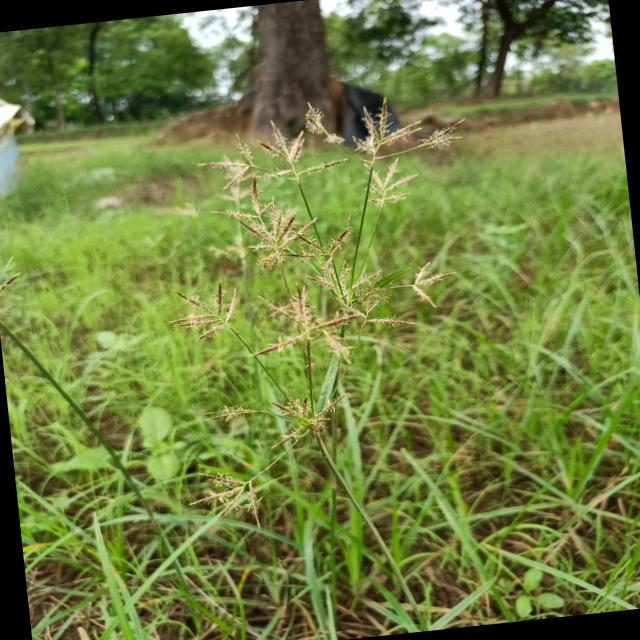cyperus: (148, 83, 506, 530), (152, 86, 488, 386)
